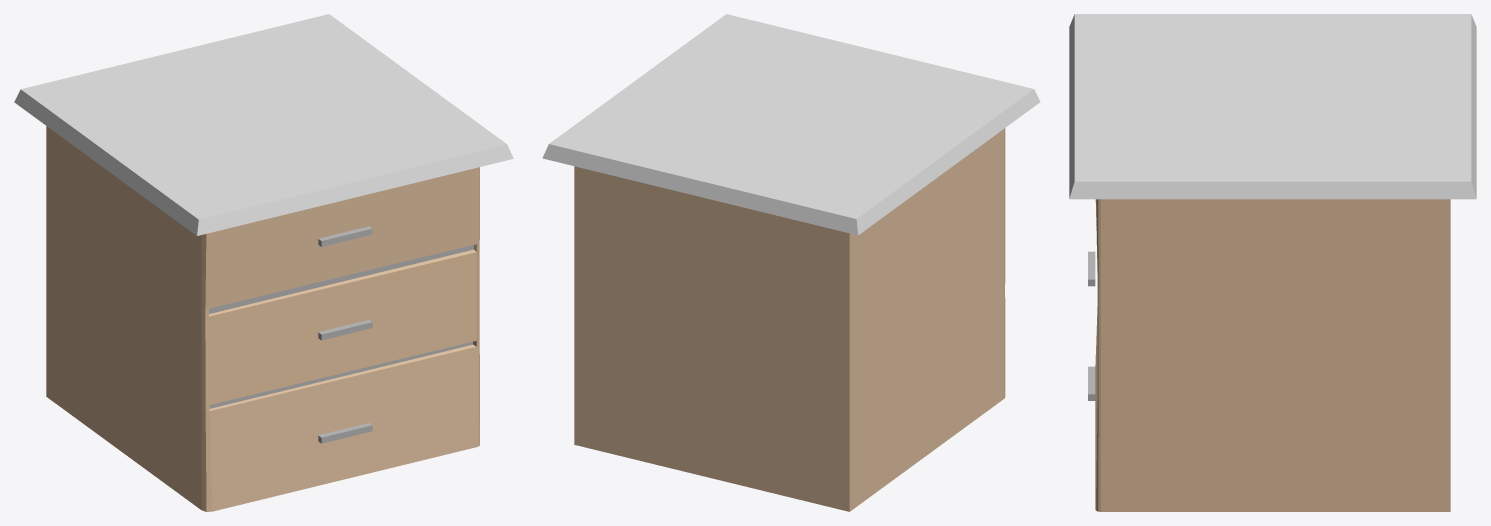
The model's file is Encimera.fbx.
3 views of the same model, side by side, from view 1: azimuth 30°, elevation 25°; view 2: azimuth 150°, elevation 25°; view 3: azimuth 270°, elevation 25° (orthographic). The views are drawn at different scales.
Visible parts, largest first — view 1: Cube; view 2: Cube; view 3: Cube.
Part boxes in pixels (<box>): Cube: <box>14,14,513,511</box>; Cube: <box>542,14,1040,511</box>; Cube: <box>1069,14,1476,511</box>.
Bounding box in the file's own units: 230 × 211 × 230.
